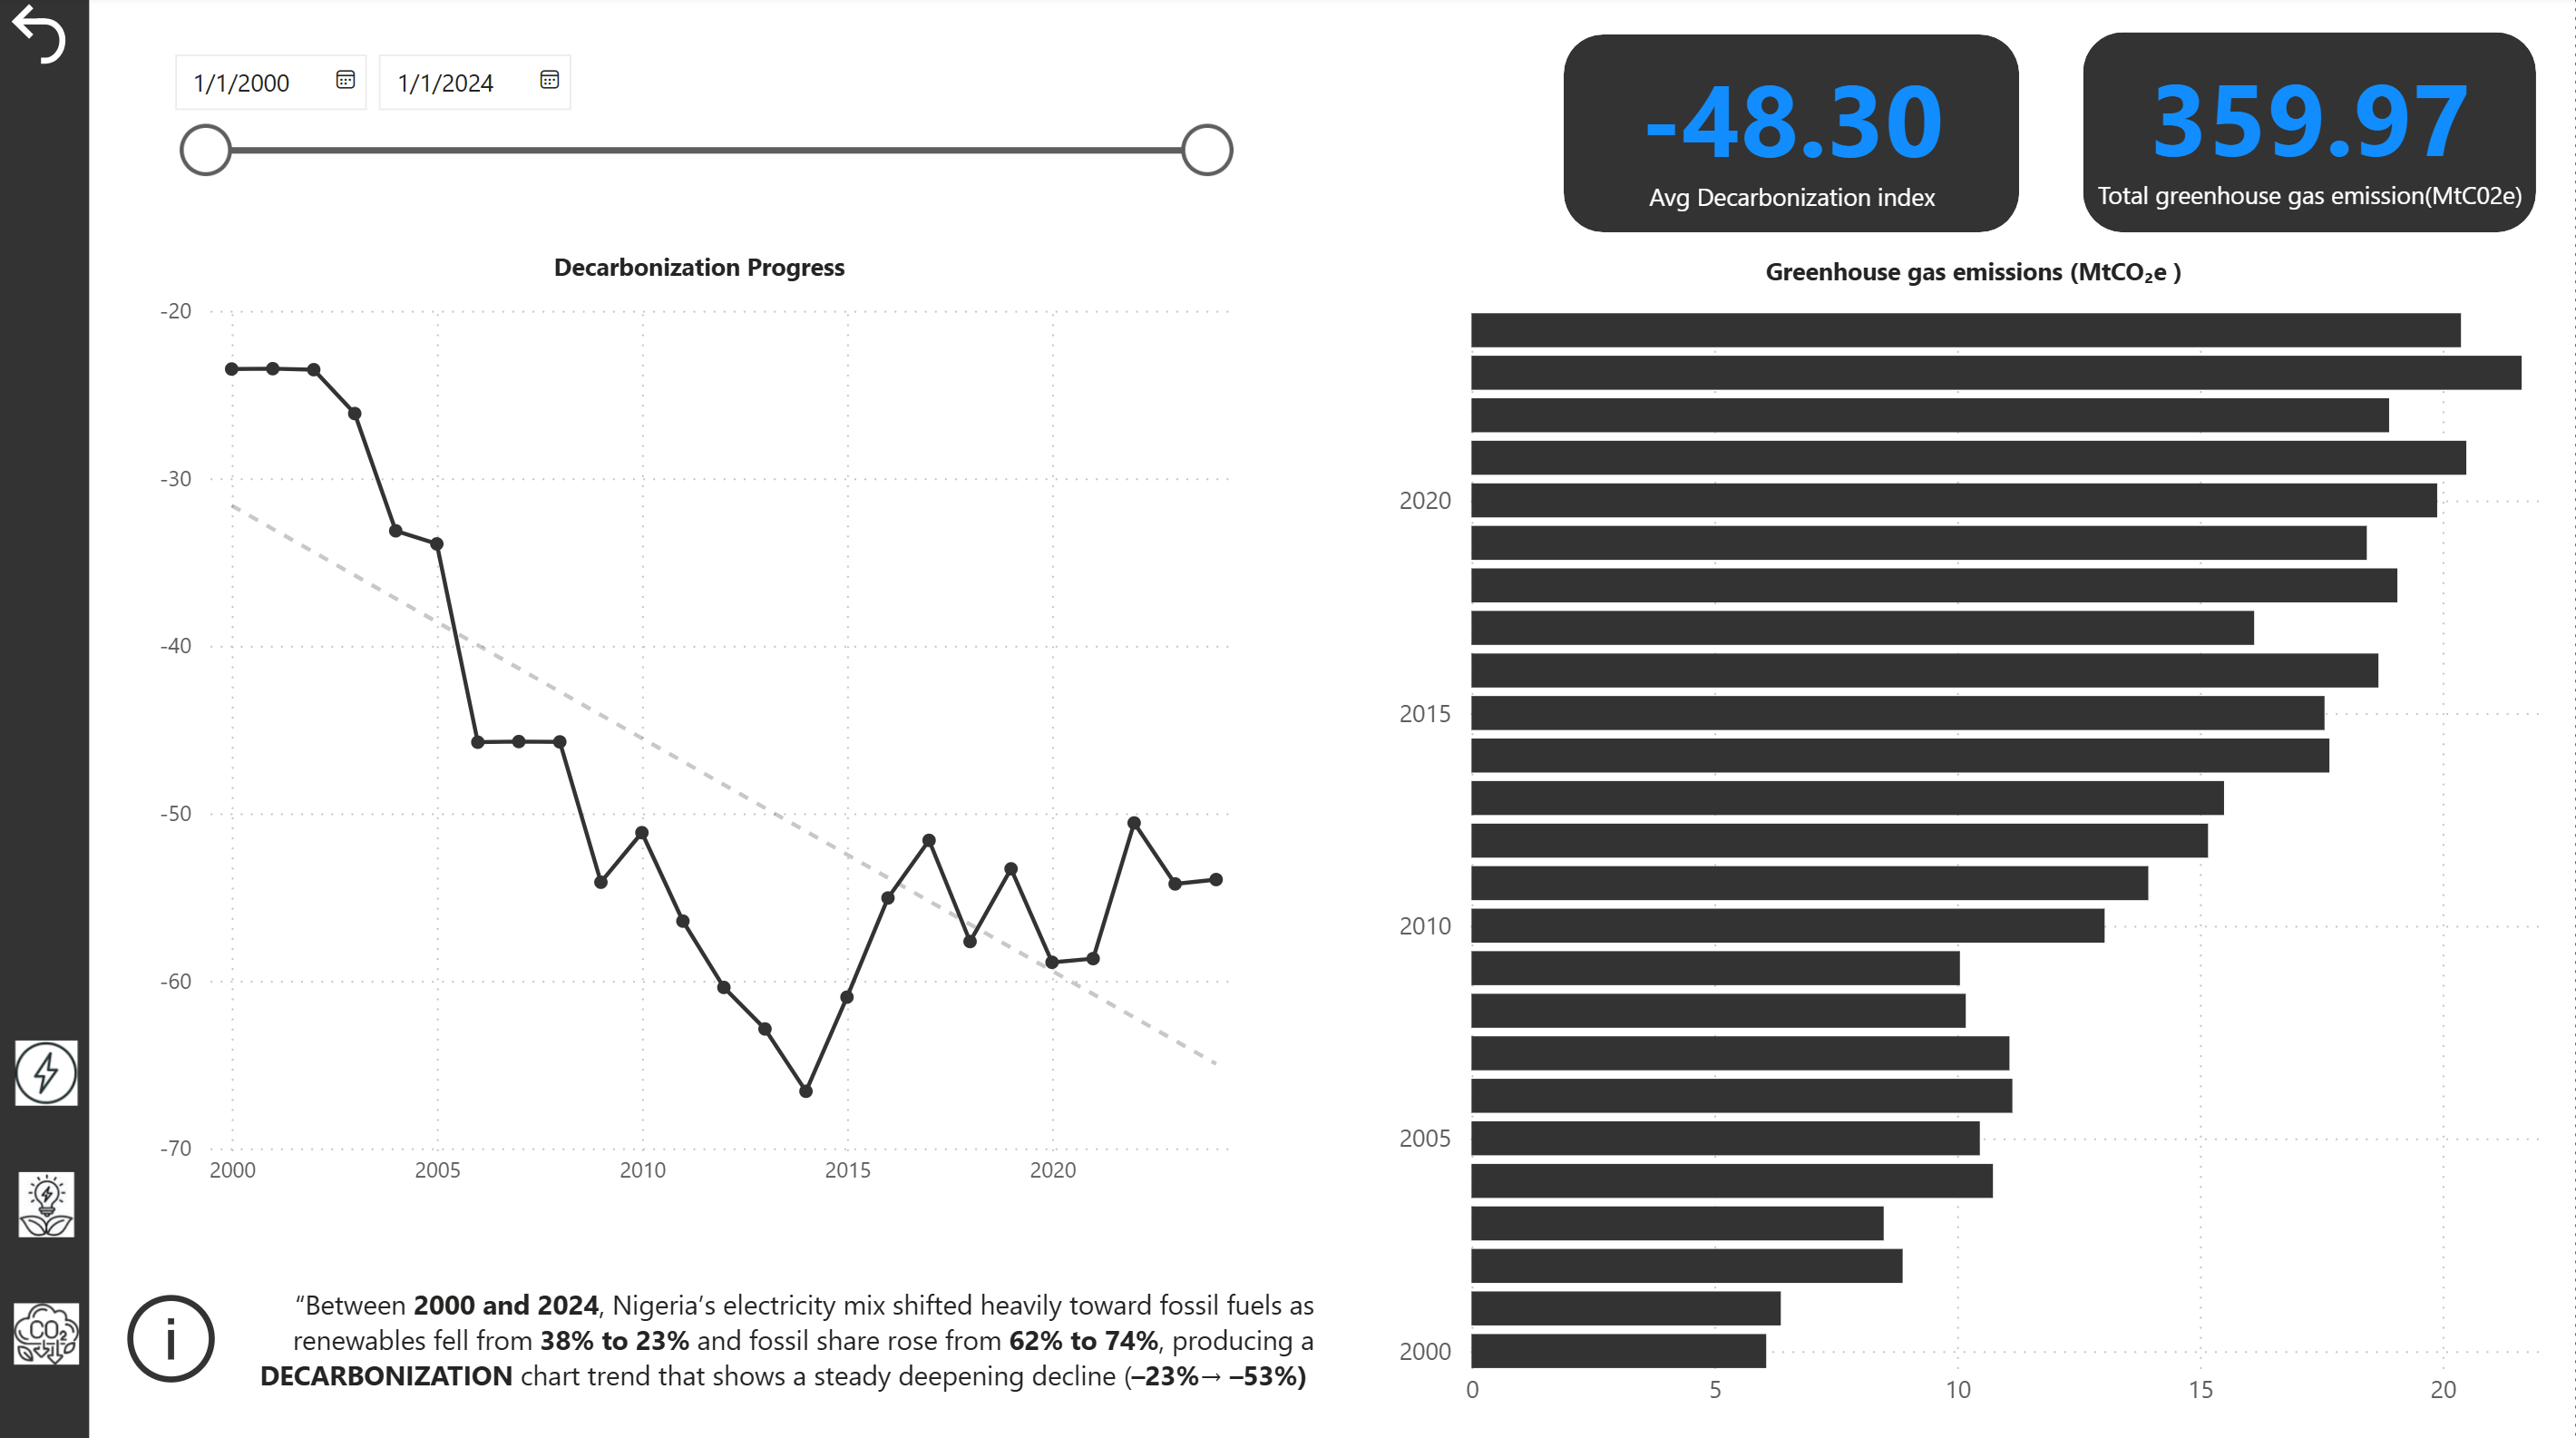

The dashboard page shown, as its layout file describes it:
{"tool":"powerbi","page":{"name":"Decarbonization","canvas":[1280,720],"ordinal":2},"visuals":[{"type":"shape","box":[777.5,19.9,226.4,98.3],"z":0},{"type":"lineChart","title":"Decarbonization Progress","fields":{"Category":["dim_year.year_date"],"Y":["Measure Table.Decarbonization Progress (%)"]},"box":[74.6,126.9,547.3,475.2],"z":1000},{"type":"actionButton","box":[3.6,516.5,44.7,40.4],"z":1000,"group":"g1"},{"type":"shape","box":[1036.2,18.7,225.2,99.5],"z":2000},{"type":"actionButton","box":[3.6,581.4,44.7,40.4],"z":2000,"group":"g1"},{"type":"card","fields":{"Values":["Measure Table.Total greenhouse gas emission(MtC02e)"]},"box":[1022.5,0,252.5,134.3],"z":3000},{"type":"actionButton","box":[3.6,646.3,44.7,40.4],"z":3000,"group":"g1"},{"type":"barChart","title":"Greenhouse gas emissions (MtCO₂e )","fields":{"Category":["dim_year.year_date"],"Y":["Sum(v_combined_country_profile.greenhouse_gas_emissions_MtCO₂e)"]},"box":[689.2,129.4,585.9,582.2],"z":4000},{"type":"card","fields":{"Values":["Measure Table.Avg Decarbonization index"]},"box":[763.8,0,253.8,135.6],"z":5000},{"type":"slicer","fields":{"Values":["dim_year.year_date"]},"box":[74.6,19.9,547.3,77.1],"z":6000},{"type":"shape","box":[0,0,44.8,720.3],"z":7000},{"type":"textbox","box":[113.2,636.9,546.1,74.6],"z":8000},{"type":"actionButton","box":[0,0,44.8,39.8],"z":9000},{"type":"actionButton","box":[57.2,636.9,56,63.4],"z":10000},{"type":"group","id":"g1","title":"Nav Buttons","box":[3.6,516.5,44.7,170.2],"z":11000}]}

Visuals, with their boxes on the page's 1280x720 design canvas (x1, y1, x2, y2). These are canvas units, not pixel positions in the 2576x1438 screenshot, which may show the page scaled, cropped or inside an application window:
shape: (left=778, top=20, right=1004, bottom=118)
"Decarbonization Progress" lineChart: (left=75, top=127, right=622, bottom=602)
actionButton: (left=4, top=516, right=48, bottom=557)
shape: (left=1036, top=19, right=1261, bottom=118)
actionButton: (left=4, top=581, right=48, bottom=622)
card - Measure Table.Total greenhouse gas emission(MtC02e): (left=1022, top=0, right=1275, bottom=134)
actionButton: (left=4, top=646, right=48, bottom=687)
"Greenhouse gas emissions (MtCO₂e )" barChart: (left=689, top=129, right=1275, bottom=712)
card - Measure Table.Avg Decarbonization index: (left=764, top=0, right=1018, bottom=136)
slicer - dim_year.year_date: (left=75, top=20, right=622, bottom=97)
shape: (left=0, top=0, right=45, bottom=720)
textbox: (left=113, top=637, right=659, bottom=712)
actionButton: (left=0, top=0, right=45, bottom=40)
actionButton: (left=57, top=637, right=113, bottom=700)
"Nav Buttons" group: (left=4, top=516, right=48, bottom=687)
